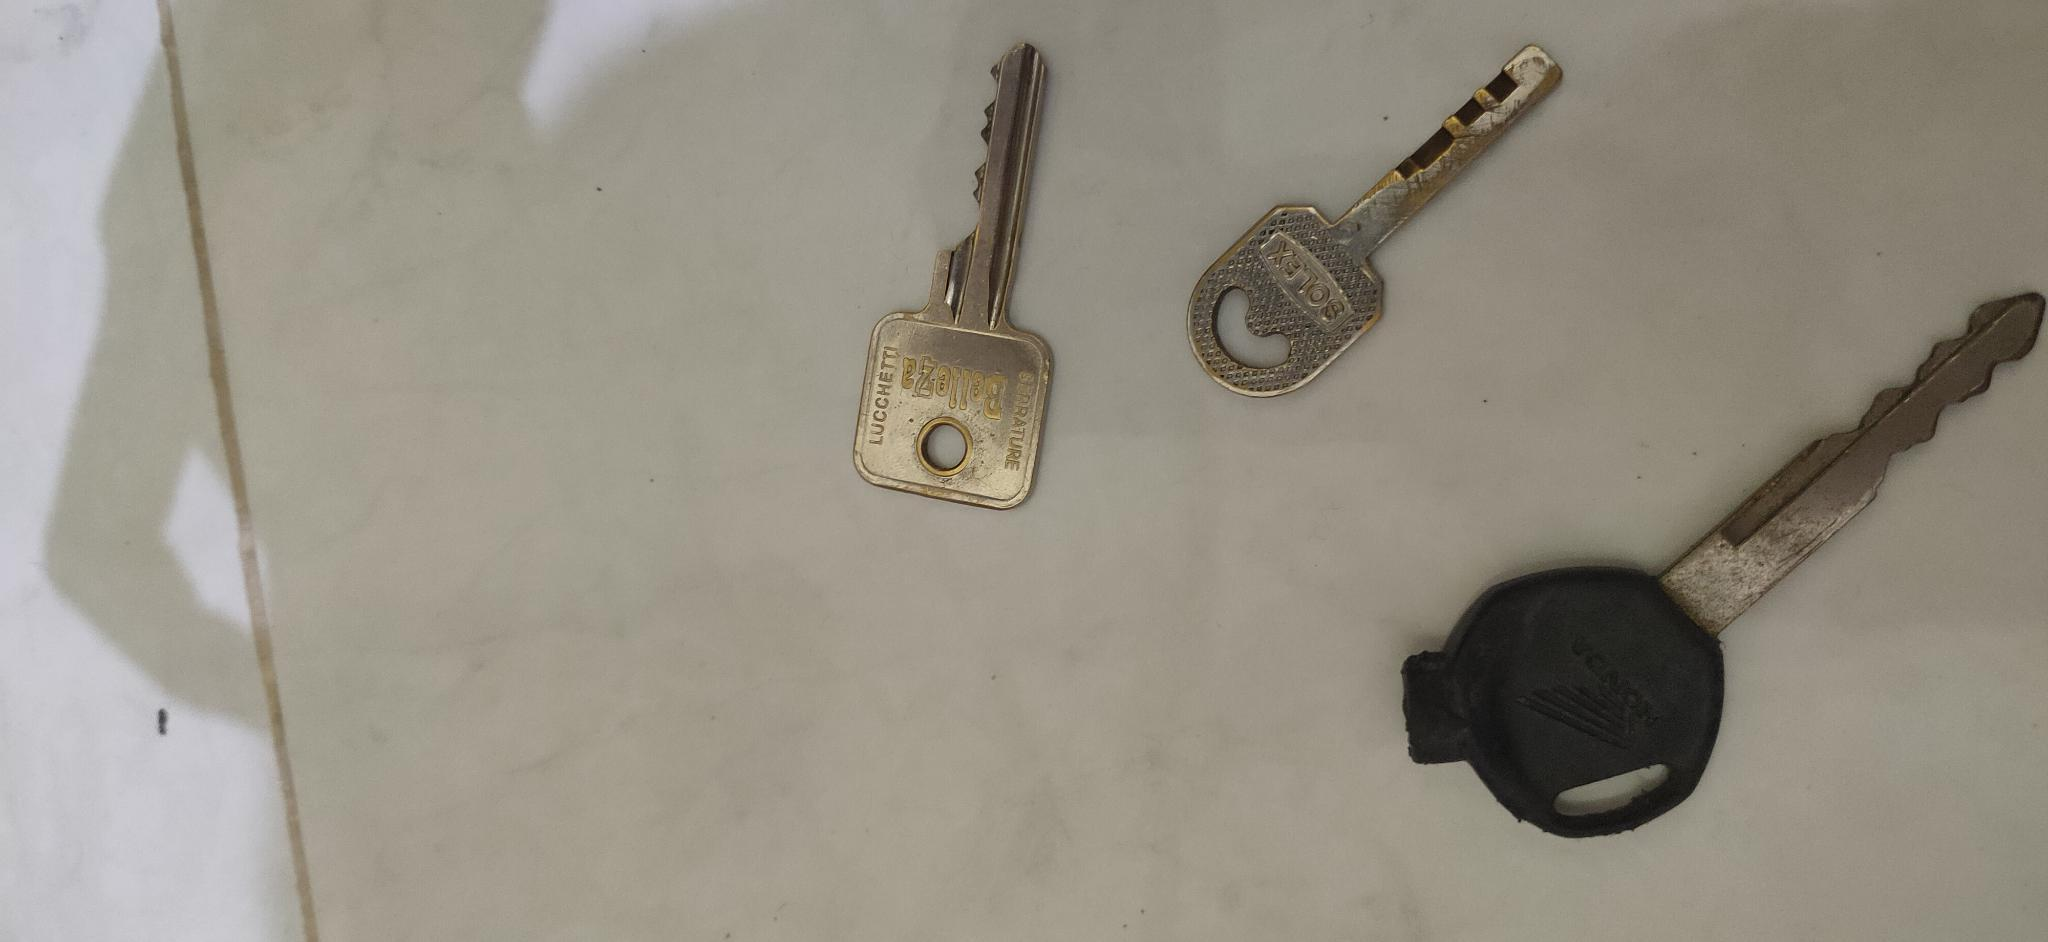keys: (1382, 280, 2047, 858), (1176, 37, 1567, 432), (840, 31, 1080, 541)
